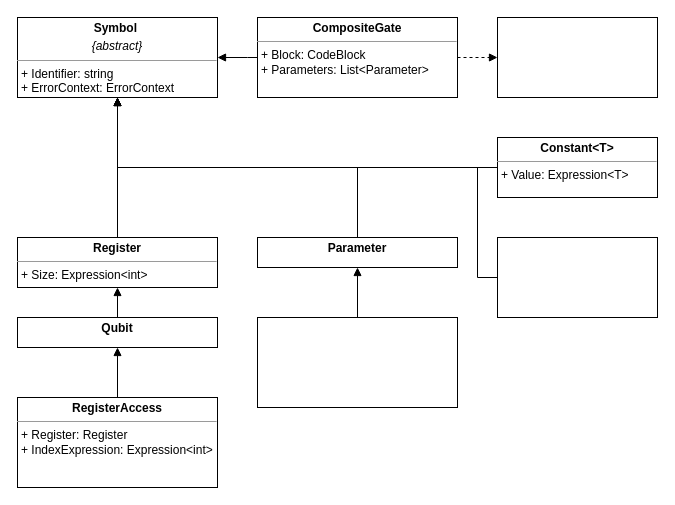
This 675x505 diagram has some shape labels left out. The centre of each missing label's shape, as x and y in pixels:
"<<Interface>> IGate + NumberOfArguments: int + Type: GateType" goes at (577,57).
"LoopIterator + Start: Expression<int> + End: Expression<int> + CurrentValue: int" goes at (577,277).
"Parameter Access + Parameter: Parameter + IndexExpression: Expression<int>" goes at (357,362).
